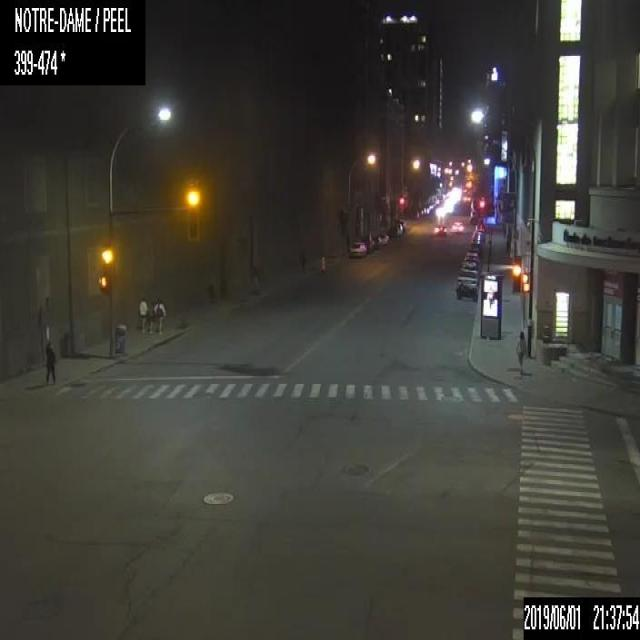construction: (319, 256, 325, 275)
pedestrian: (43, 336, 56, 383), (153, 296, 167, 334), (514, 328, 526, 371), (138, 296, 148, 334), (252, 263, 261, 294), (148, 306, 154, 333), (300, 252, 306, 276)
vehicle: (456, 280, 478, 300), (356, 233, 374, 253), (457, 269, 479, 285), (459, 259, 482, 271), (349, 242, 366, 256), (471, 232, 484, 244), (464, 252, 479, 262), (465, 247, 480, 256), (451, 221, 463, 232), (372, 236, 382, 248), (378, 233, 388, 245), (392, 222, 402, 234), (434, 224, 446, 233), (396, 219, 405, 230), (474, 228, 484, 233)
